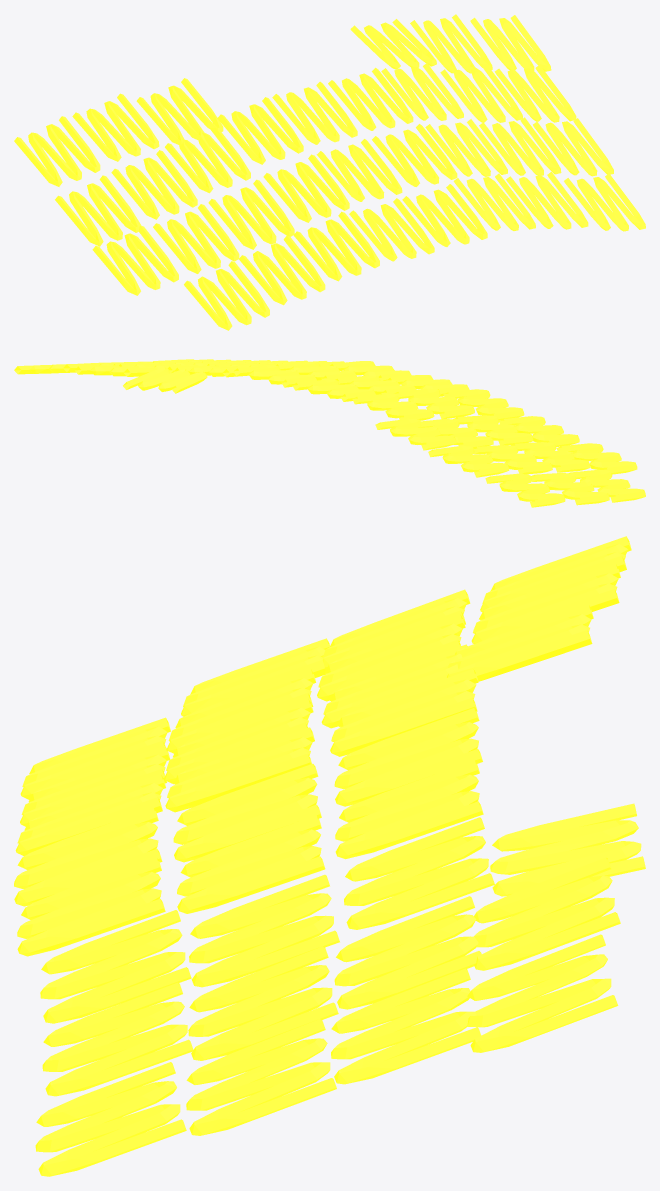
The model's file is F7_Radiator.glb.
3 views of the same model, one above another, from view 1: azimuth 30°, elevation 25°; view 2: azimuth 150°, elevation 25°; view 3: azimuth 270°, elevation 25° (orthographic). The views are drawn at different scales.
Visible parts, largest first — view 1: Radiator.001; view 2: Radiator.001; view 3: Radiator.001.
Boxes of the visible parts, x1,y1,x2,y2 form: Radiator.001: [14, 14, 645, 330]; Radiator.001: [14, 359, 645, 507]; Radiator.001: [14, 536, 645, 1176].
Size of the model in its own units: 14.6 by 3.54 by 8.23.
